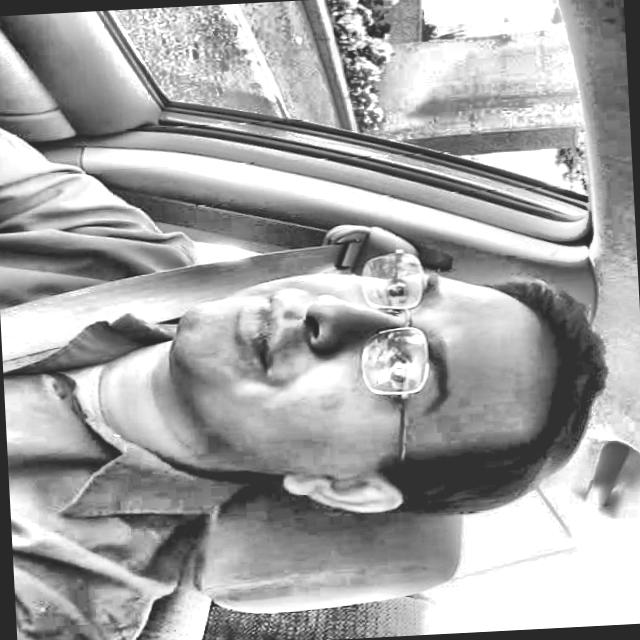closed_mouth: (214, 284, 304, 401)
open_eyes: (355, 333, 429, 398), (352, 255, 425, 314)
